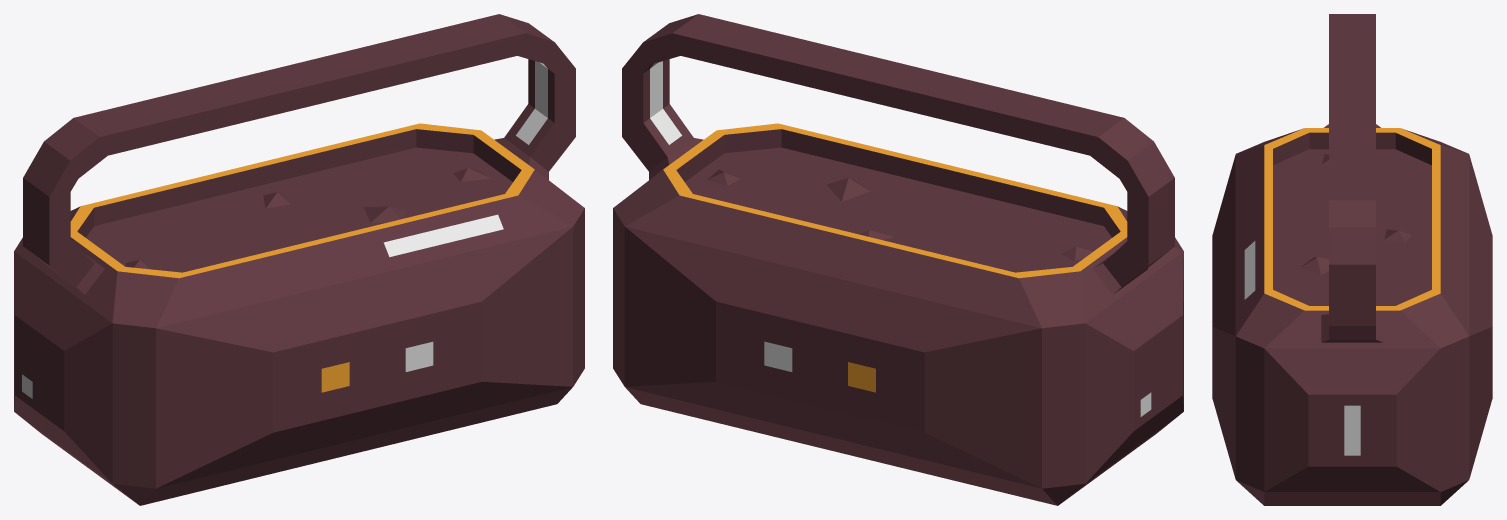
File: scifi-pot-medium-empty.fbx
3 views of the same model, side by side, from view 1: azimuth 30°, elevation 25°; view 2: azimuth 150°, elevation 25°; view 3: azimuth 270°, elevation 25° (orthographic). The views are drawn at different scales.
Parts seen in each view (by area): view 1: scifi-pot-medium-empty; view 2: scifi-pot-medium-empty; view 3: scifi-pot-medium-empty.
Boxes of the visible parts, left/top/right/bottom form: scifi-pot-medium-empty: left=14, top=14, right=584, bottom=505; scifi-pot-medium-empty: left=613, top=14, right=1183, bottom=505; scifi-pot-medium-empty: left=1212, top=14, right=1492, bottom=505.
Size of the model in its own units: 2.02 by 1.26 by 1.04.
